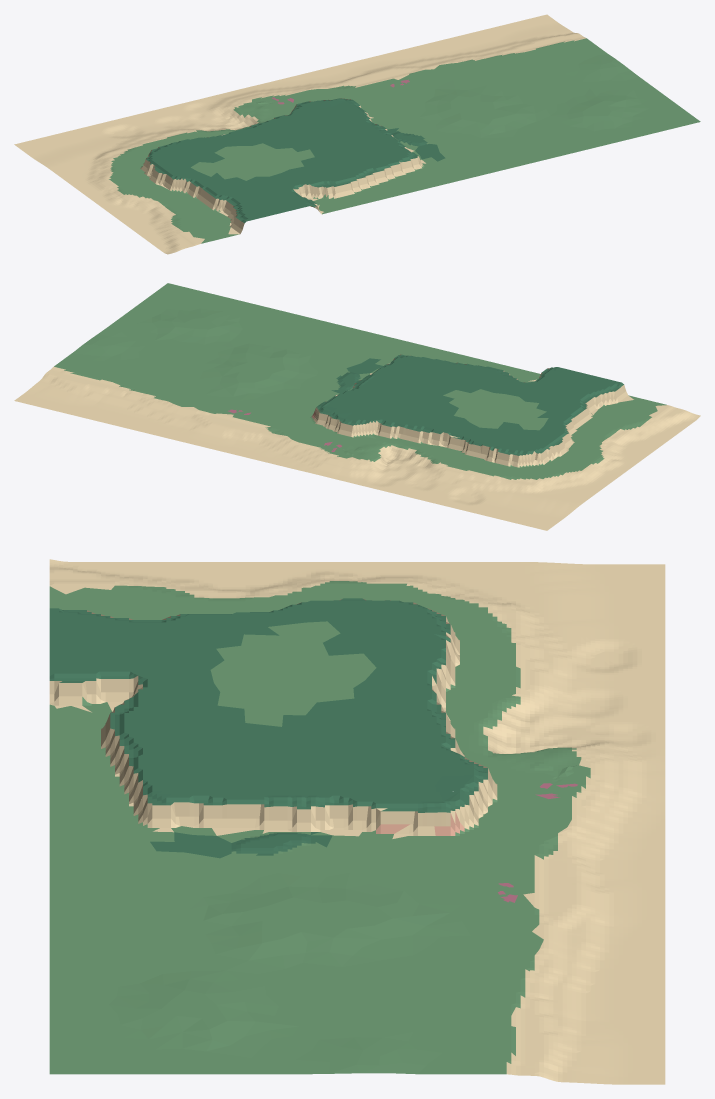
File: pulau_tes.fbx
3 views of the same model, one above another, from view 1: azimuth 30°, elevation 25°; view 2: azimuth 150°, elevation 25°; view 3: azimuth 270°, elevation 25° (orthographic). The views are drawn at different scales.
Visible parts, largest first — view 1: Plane; view 2: Plane; view 3: Plane.
Part boxes in pixels (x1=…): Plane: x1=14, y1=14, x2=700, y2=254; Plane: x1=14, y1=283, x2=700, y2=530; Plane: x1=49, y1=559, x2=665, y2=1084.
Size of the model in its own units: 31973 by 1080 by 15986.
